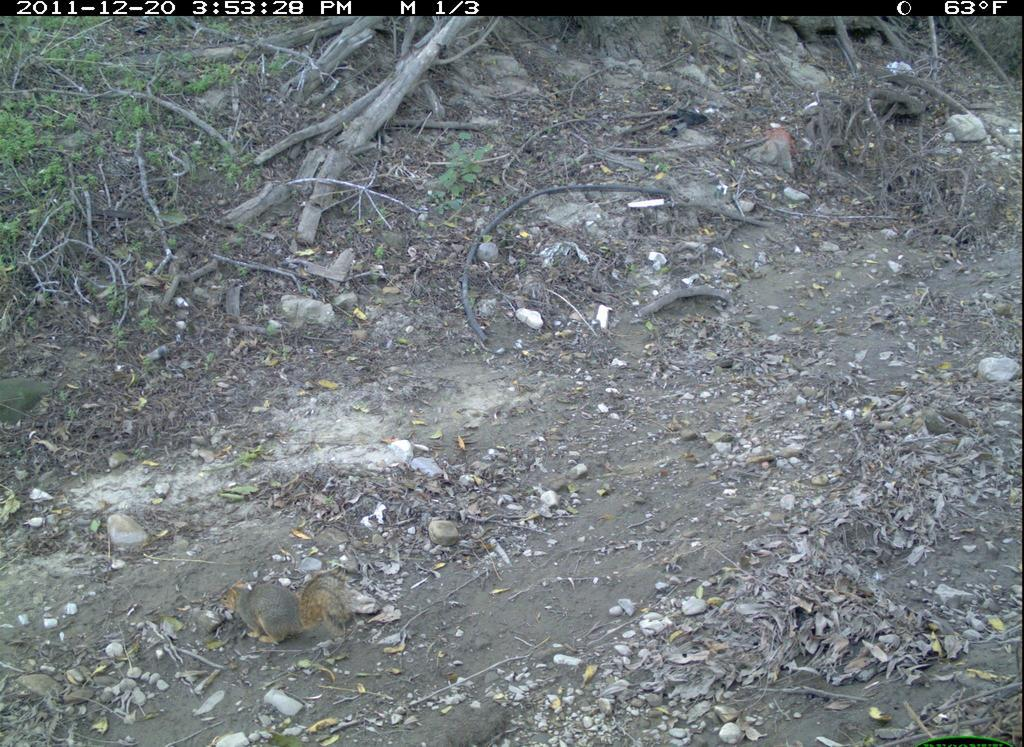squirrel: (208, 566, 387, 647)
